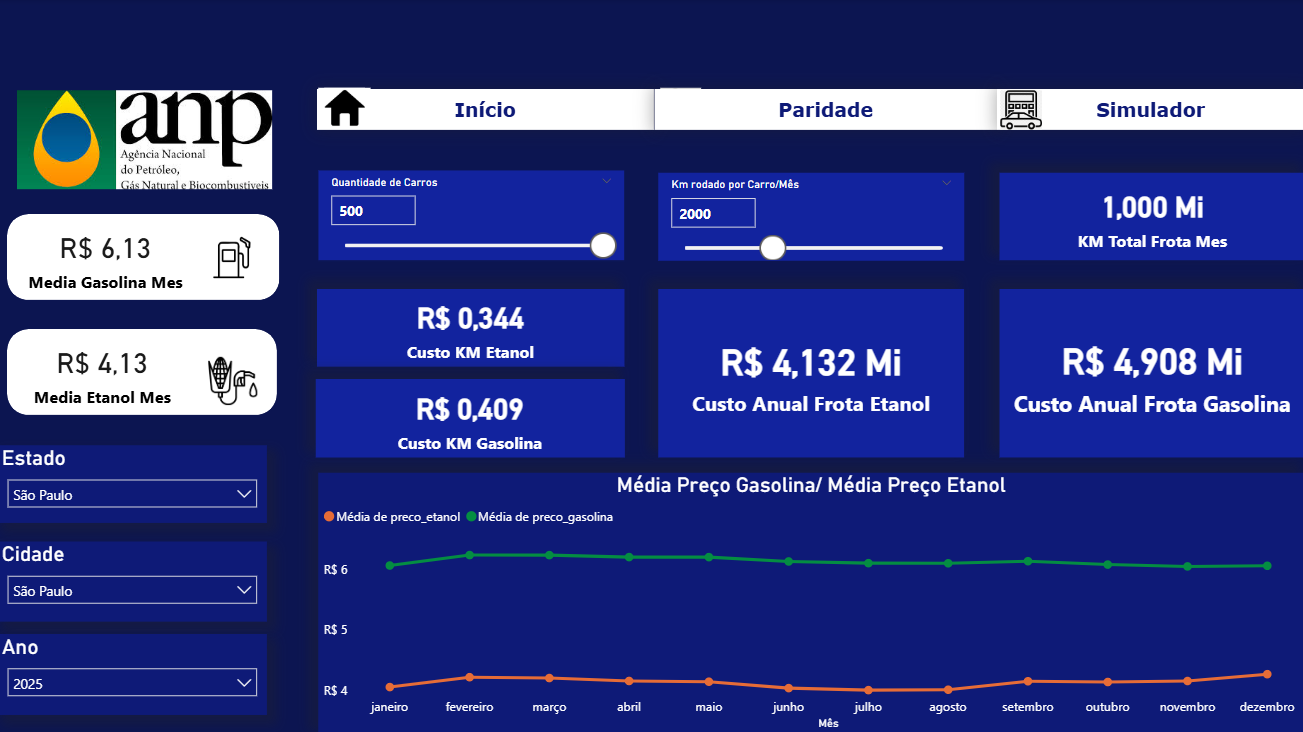

Layout of this report page (visuals, bound fields, positions):
{"tool":"powerbi","page":{"name":"Simulador","canvas":[1280,720],"ordinal":2},"visuals":[{"type":"shape","box":[1.2,0,1279.1,720.2],"z":0},{"type":"lineChart","title":"Média Preço Gasolina/ Média Preço Etanol","fields":{"Y":["Avg(Gasolina/Etanol.preco_etanol)","Avg(Gasolina/Etanol.preco_gasolina)"],"Category":["Gasolina/Etanol.ano_mes.Variation.Hierarquia de datas.Mês"]},"box":[314.3,463.5,964.8,256.8],"z":1000},{"type":"slicer","title":"Estado","fields":{"Values":["Gasolina/Etanol.sigla_uf_nome"]},"box":[0,436.6,264.1,75.8],"z":2000},{"type":"slicer","title":"Cidade","fields":{"Values":["Gasolina/Etanol.id_municipio_nome"]},"box":[0,530.7,264.1,78.3],"z":3000},{"type":"slicer","title":"Ano","fields":{"Values":["Gasolina/Etanol.Ano"]},"box":[0,621.2,264.1,79.5],"z":4000},{"type":"actionButton","box":[313.6,88.4,329.3,39.9],"z":5000},{"type":"image","box":[313.9,88.5,51.4,40],"z":6000},{"type":"actionButton","box":[642.9,88.4,335,39.9],"z":7000},{"type":"image","box":[642.9,89.8,51.3,38.5],"z":8000},{"type":"actionButton","box":[977.8,88.4,300.8,39.9],"z":9000},{"type":"image","box":[977.8,89.8,47,38.5],"z":10000},{"type":"image","box":[19.6,89.3,249.5,96.6],"z":11000},{"type":"slicer","fields":{"Values":["Quantidade de Carros.Quantidade de Carros"]},"box":[314.3,167.5,299.6,88],"z":12000},{"type":"slicer","fields":{"Values":["Km rodado por Carro/Mês.Km rodado por Carro/Mês"]},"box":[646.9,170,299.6,85.6],"z":13000},{"type":"card","fields":{"Values":["Gasolina/Etanol.KM Total Frota Mes"]},"box":[980.7,170,299.6,85.6],"z":14000},{"type":"card","fields":{"Values":["Gasolina/Etanol.Custo Anual Frota Gasolina"]},"box":[980.7,283.7,299.6,165.1],"z":15000},{"type":"card","fields":{"Values":["Gasolina/Etanol.Custo Anual Frota Etanol"]},"box":[646.9,283.7,299.6,165.1],"z":16000},{"type":"shape","box":[9.8,210.3,266.6,84.4],"z":21000},{"type":"image","box":[199.8,223,61.1,61.1],"z":22000},{"type":"shape","box":[9.8,322.8,264.1,84.4],"z":23000},{"type":"card","fields":{"Values":["Gasolina/Etanol.Media Gasolina Selecionada"]},"box":[22.5,218.2,168.8,70.9],"z":24000},{"type":"image","box":[206.7,346.1,47.7,55],"z":25000},{"type":"card","fields":{"Values":["Gasolina/Etanol.Media Etanol Selecionada"]},"box":[26.9,330.2,152.9,70.9],"z":26000},{"type":"card","fields":{"Values":["Gasolina/Etanol.Custo KM Etanol"]},"box":[313,283.7,300.8,75.8],"z":26001},{"type":"card","fields":{"Values":["Gasolina/Etanol.Custo KM Gasolina"]},"box":[311.8,371.7,302,77],"z":26002}]}

Visuals, with their boxes in screenshot pixels (x1, y1, x2, y2), scaled from the page's 1280x720 canvas onto the 1303x732 screenshot:
shape: bbox=(1, 0, 1302, 731)
"Média Preço Gasolina/ Média Preço Etanol" lineChart: bbox=(320, 471, 1302, 731)
"Estado" slicer: bbox=(0, 444, 269, 521)
"Cidade" slicer: bbox=(0, 540, 269, 619)
"Ano" slicer: bbox=(0, 632, 269, 712)
actionButton: bbox=(319, 90, 654, 130)
image: bbox=(320, 90, 372, 131)
actionButton: bbox=(654, 90, 995, 130)
image: bbox=(654, 91, 707, 130)
actionButton: bbox=(995, 90, 1302, 130)
image: bbox=(995, 91, 1043, 130)
image: bbox=(20, 91, 274, 189)
slicer - Quantidade de Carros.Quantidade de Carros: bbox=(320, 170, 625, 260)
slicer - Km rodado por Carro/Mês.Km rodado por Carro/Mês: bbox=(659, 173, 964, 260)
card - Gasolina/Etanol.KM Total Frota Mes: bbox=(998, 173, 1302, 260)
card - Gasolina/Etanol.Custo Anual Frota Gasolina: bbox=(998, 288, 1302, 456)
card - Gasolina/Etanol.Custo Anual Frota Etanol: bbox=(659, 288, 964, 456)
shape: bbox=(10, 214, 281, 300)
image: bbox=(203, 227, 266, 289)
shape: bbox=(10, 328, 279, 414)
card - Gasolina/Etanol.Media Gasolina Selecionada: bbox=(23, 222, 195, 294)
image: bbox=(210, 352, 259, 408)
card - Gasolina/Etanol.Media Etanol Selecionada: bbox=(27, 336, 183, 408)
card - Gasolina/Etanol.Custo KM Etanol: bbox=(319, 288, 625, 365)
card - Gasolina/Etanol.Custo KM Gasolina: bbox=(317, 378, 625, 456)
